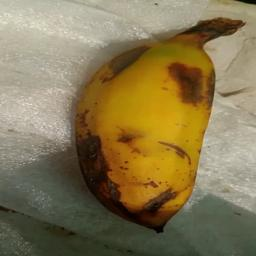Banana Semirotten: (72, 14, 253, 231)
